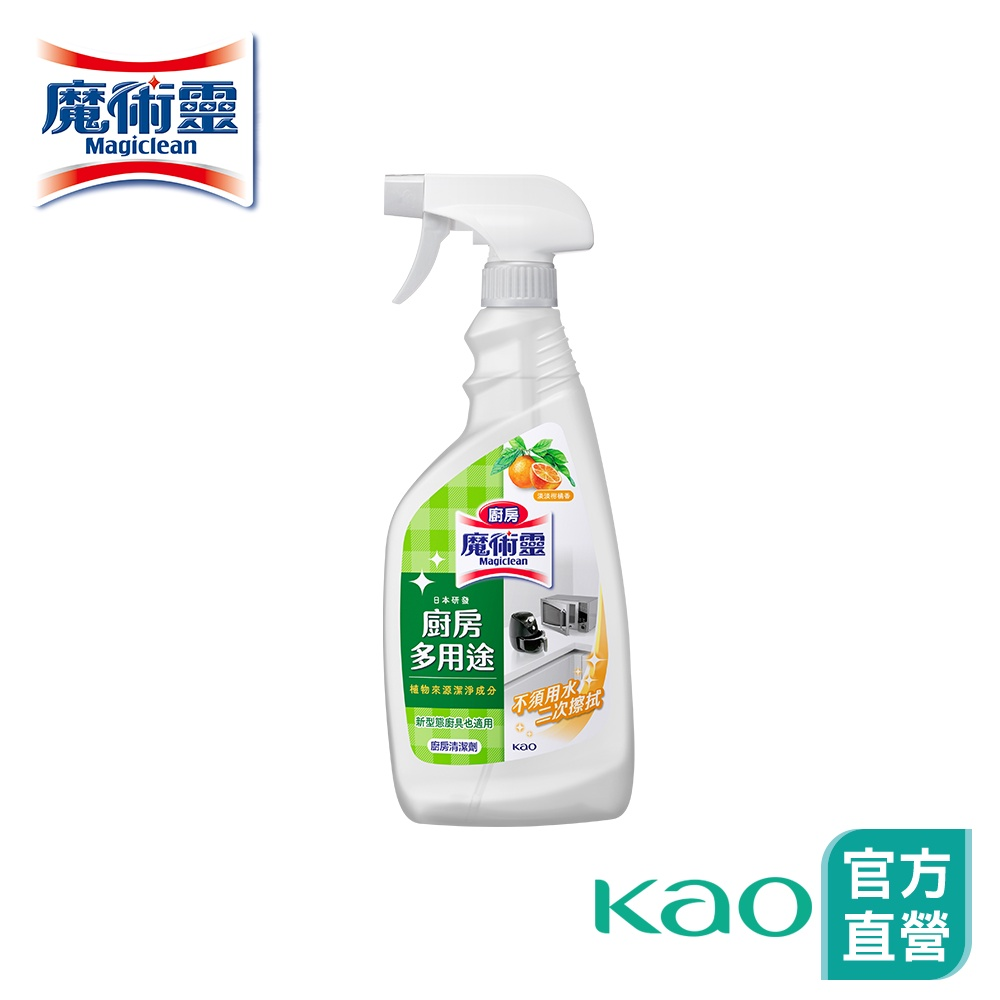cleaner: (325, 154, 661, 828)
